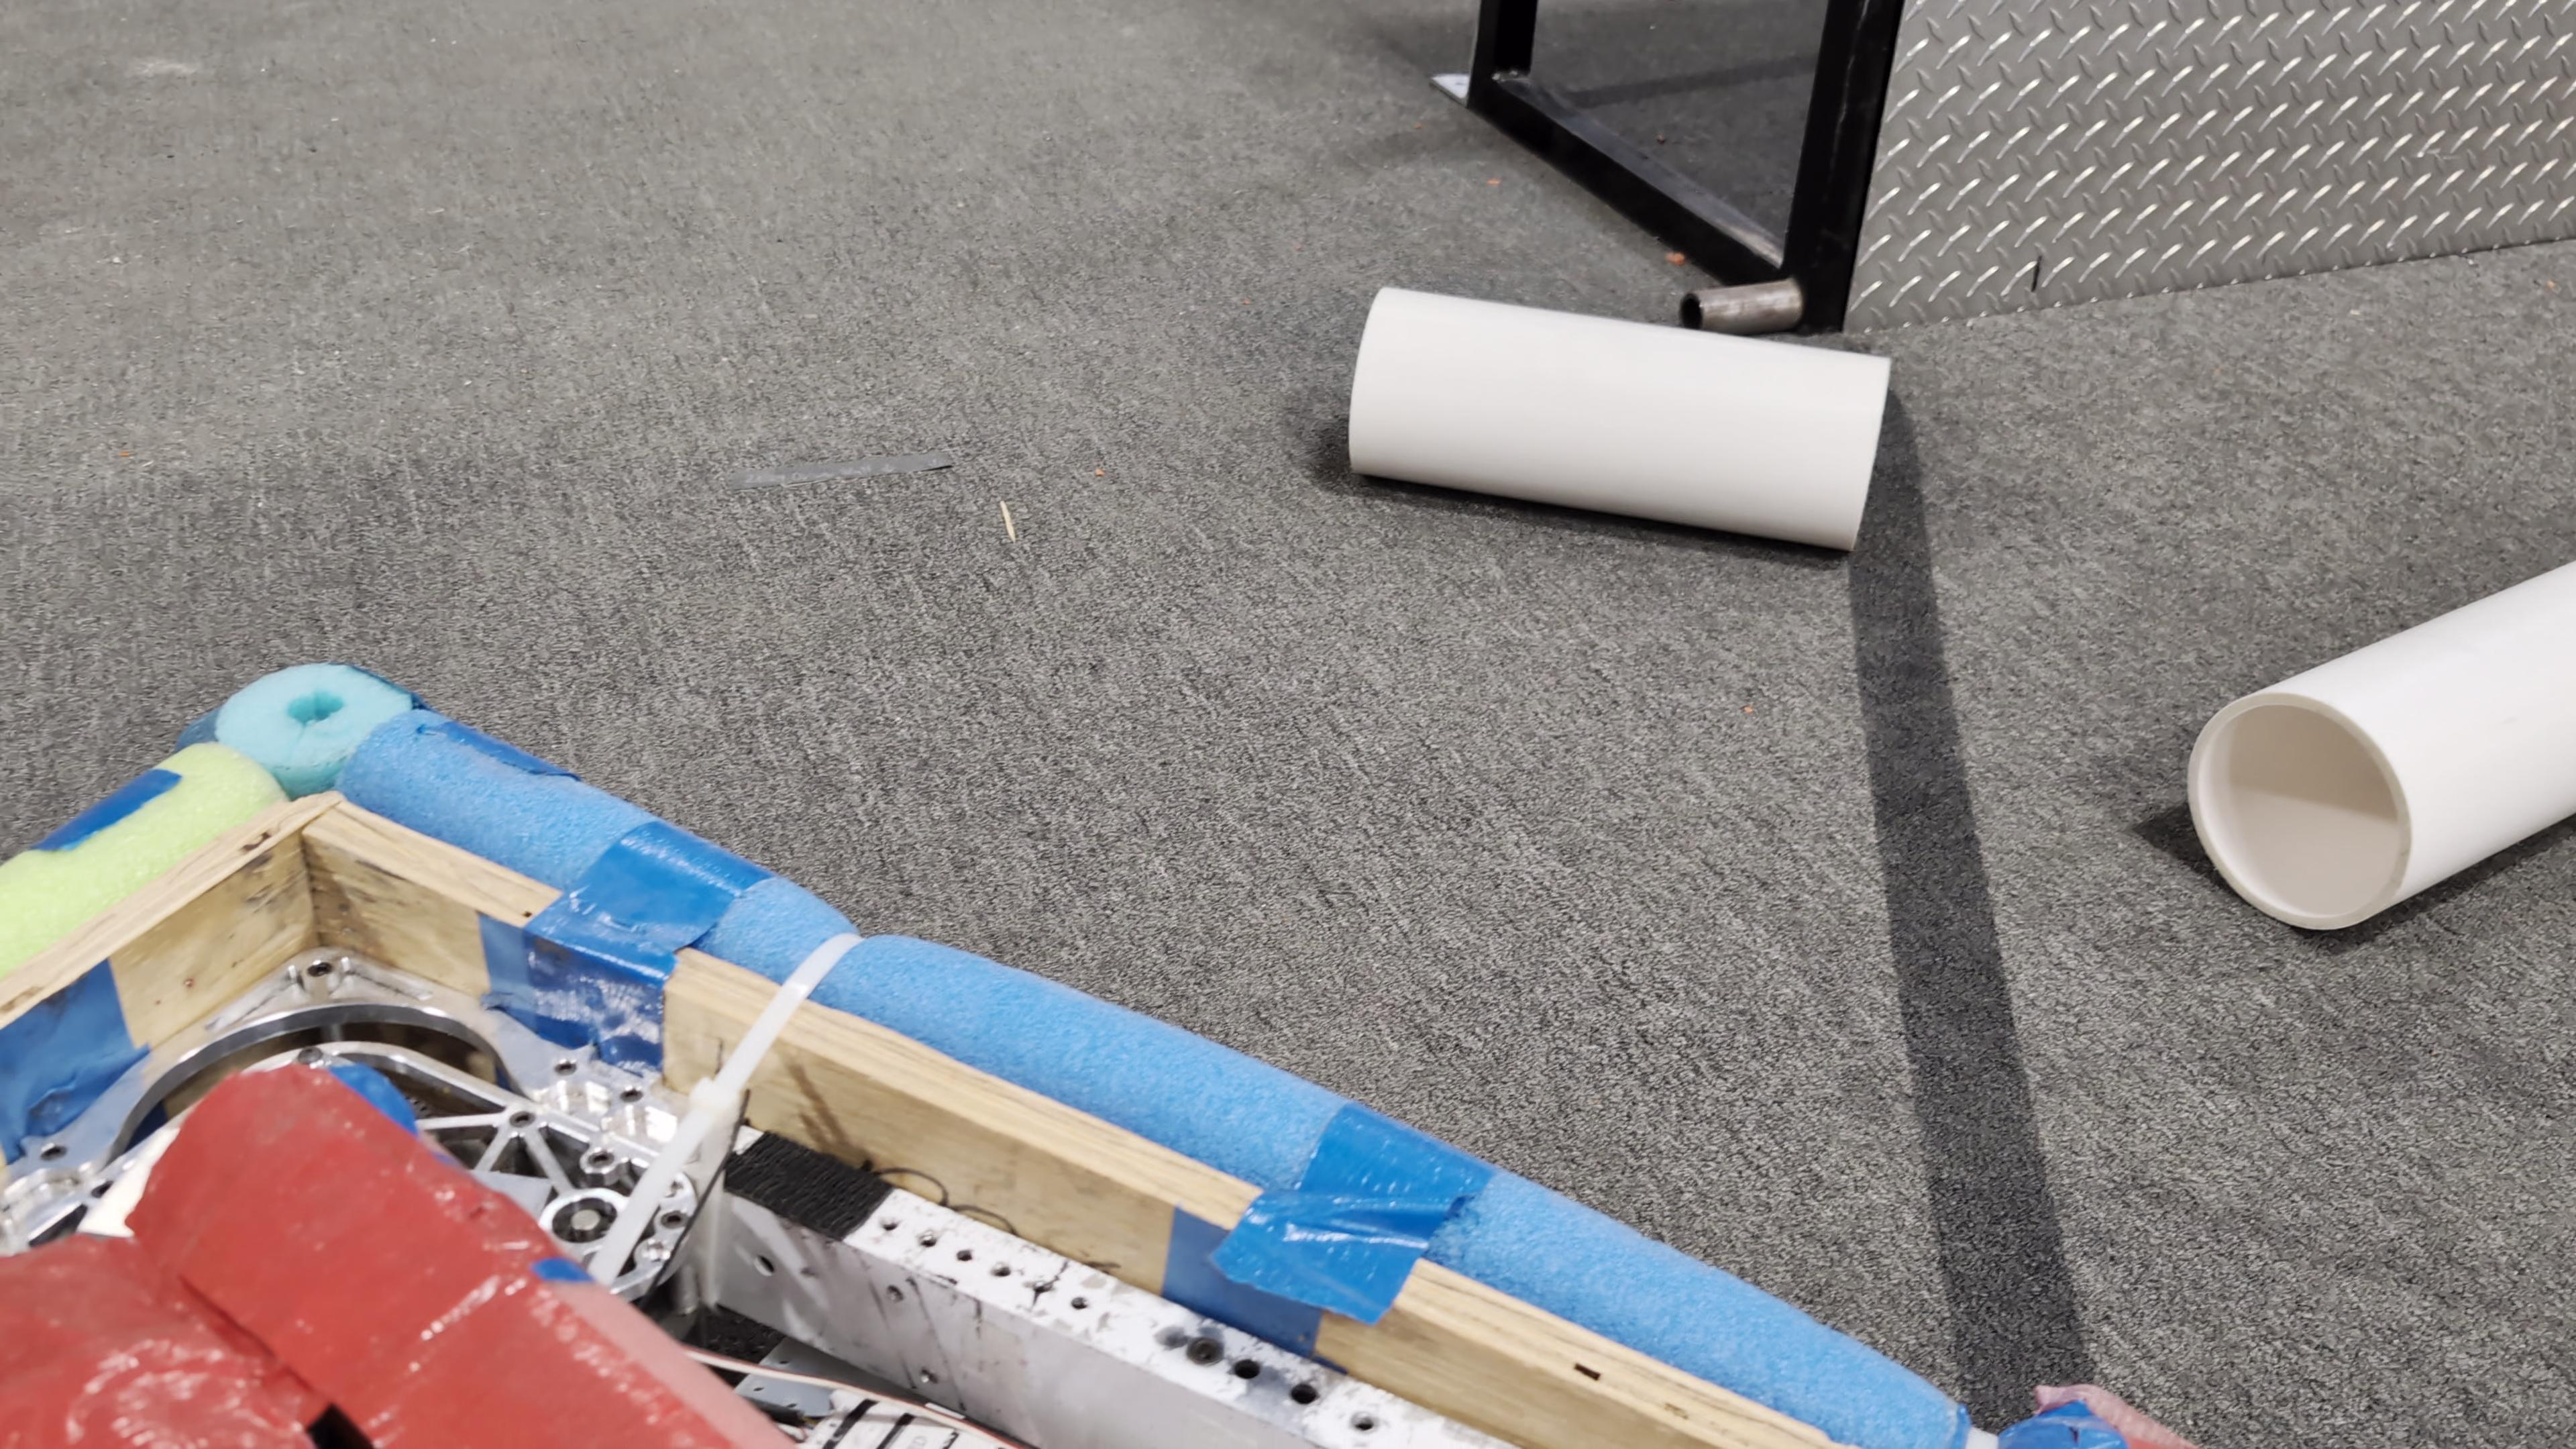coral: (1348, 287, 1891, 552), (2189, 559, 2576, 931)
